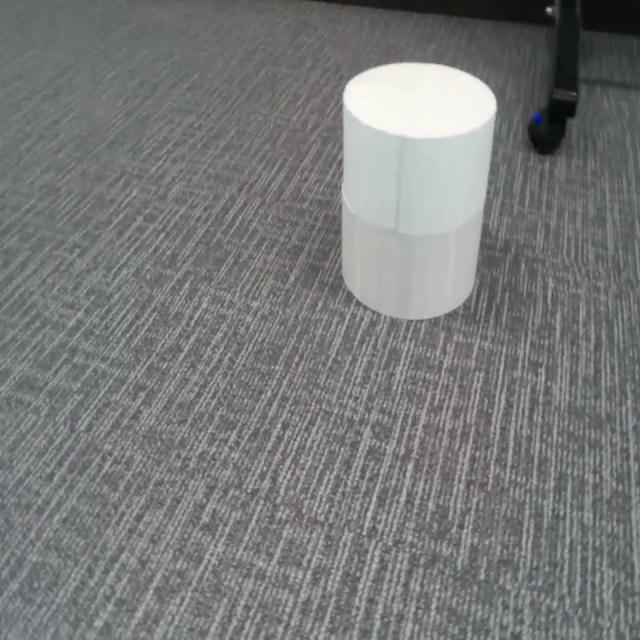cylinder: (341, 62, 498, 320)
